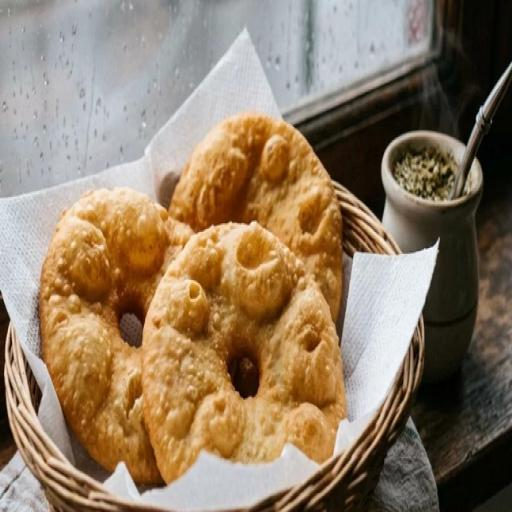bolleria: (143, 222, 346, 482), (39, 189, 191, 484), (169, 113, 342, 320)
mate: (382, 65, 511, 382)
